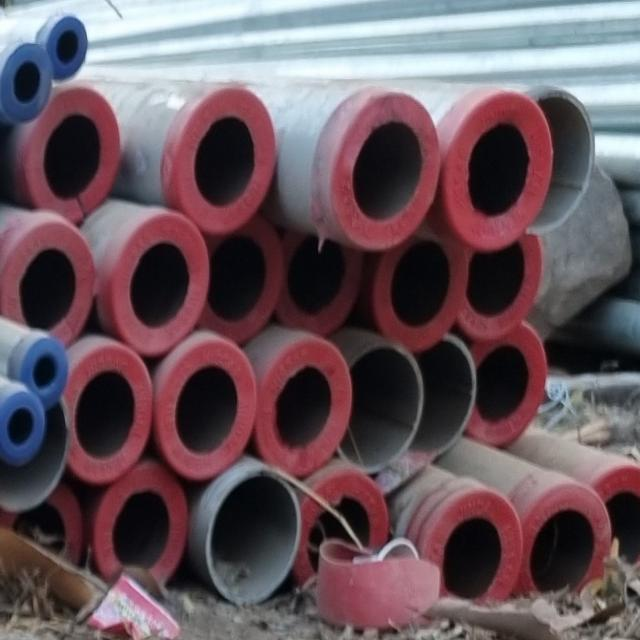pipe: (332, 93, 442, 251), (444, 93, 552, 252), (156, 339, 256, 481), (178, 89, 275, 235), (113, 210, 209, 357), (256, 340, 352, 481), (26, 85, 120, 223), (372, 221, 469, 350), (208, 471, 301, 604), (64, 346, 154, 482), (1, 222, 95, 347), (96, 462, 188, 587), (197, 216, 284, 348), (425, 492, 524, 601), (520, 485, 611, 600), (339, 346, 422, 471), (465, 323, 547, 444), (276, 232, 362, 337), (531, 93, 594, 232), (462, 234, 542, 341), (408, 340, 477, 457), (1, 43, 53, 123), (22, 337, 69, 410), (0, 394, 44, 466), (46, 16, 89, 85)
